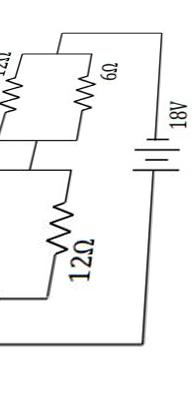resistor: (37, 190, 71, 263), (66, 67, 95, 113), (0, 72, 30, 109)
